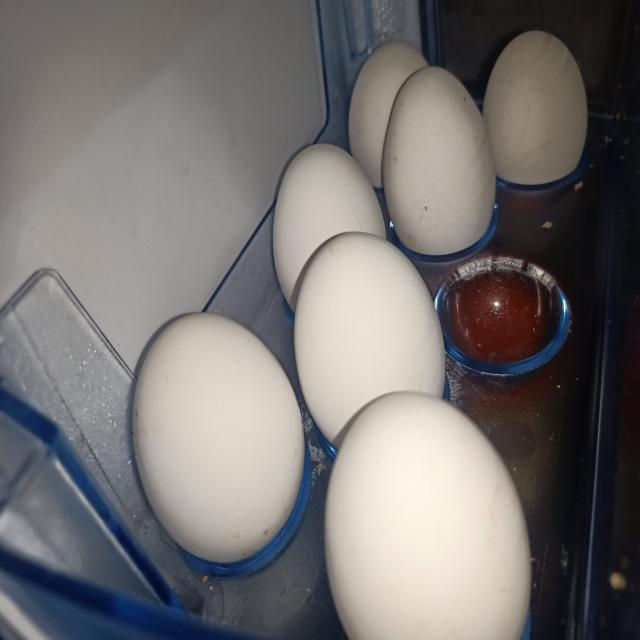Egg: (325, 392, 532, 640), (132, 313, 304, 563), (294, 232, 445, 448), (383, 66, 496, 254), (273, 143, 386, 310), (484, 29, 588, 184), (349, 40, 429, 187)
